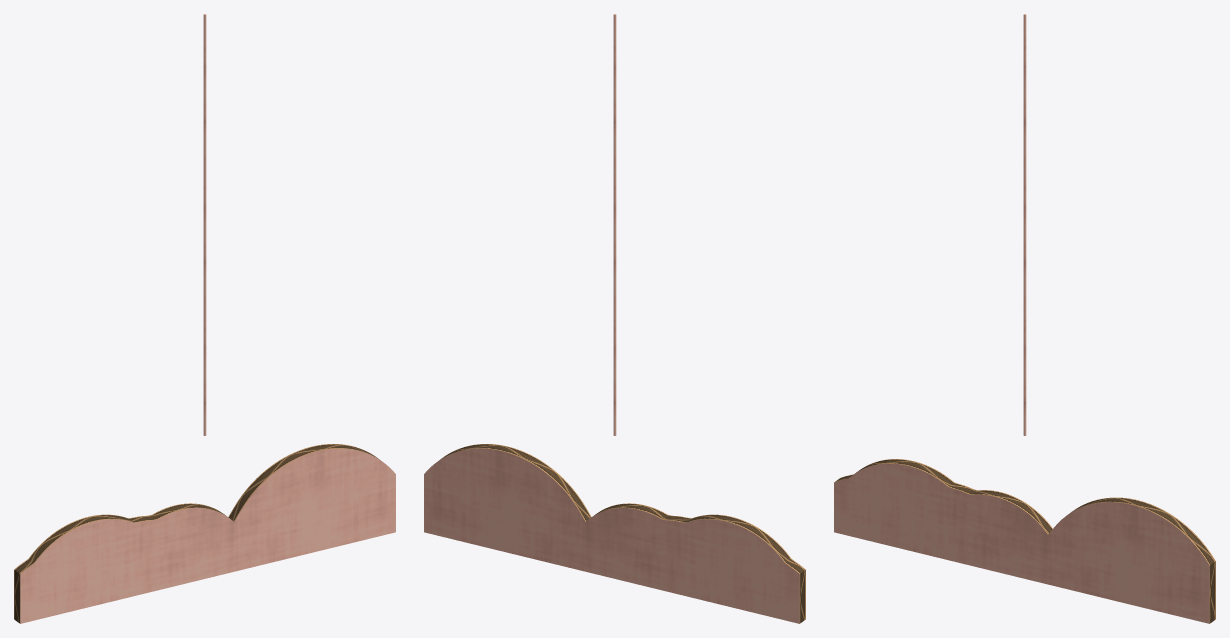
The model's file is cloud_cutout_00_evening.gltf.
3 views of the same model, side by side, from view 1: azimuth 30°, elevation 25°; view 2: azimuth 150°, elevation 25°; view 3: azimuth 330°, elevation 25° (orthographic).
Parts seen in each view (by area): view 1: cloud_cutout_00_evening; view 2: cloud_cutout_00_evening; view 3: cloud_cutout_00_evening.
Boxes of the visible parts, x1,y1,x2,y2 form: cloud_cutout_00_evening: (14,14,395,623); cloud_cutout_00_evening: (424,14,805,623); cloud_cutout_00_evening: (834,14,1215,623).
Bounding box in the file's own units: 1.4 × 2 × 0.04.
Materials: 2 (2 with a texture image).
